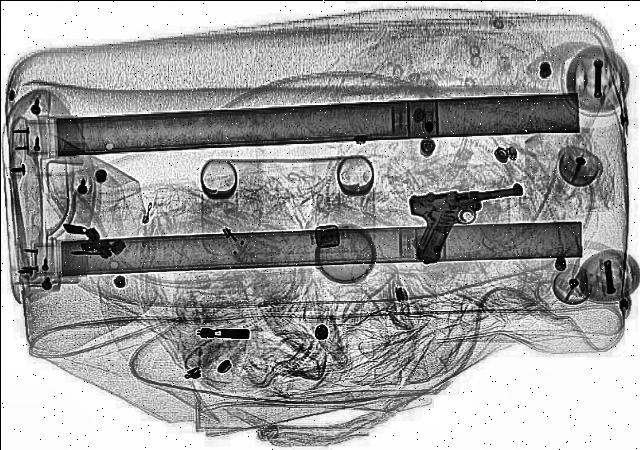Gun: (403, 184, 532, 262)
